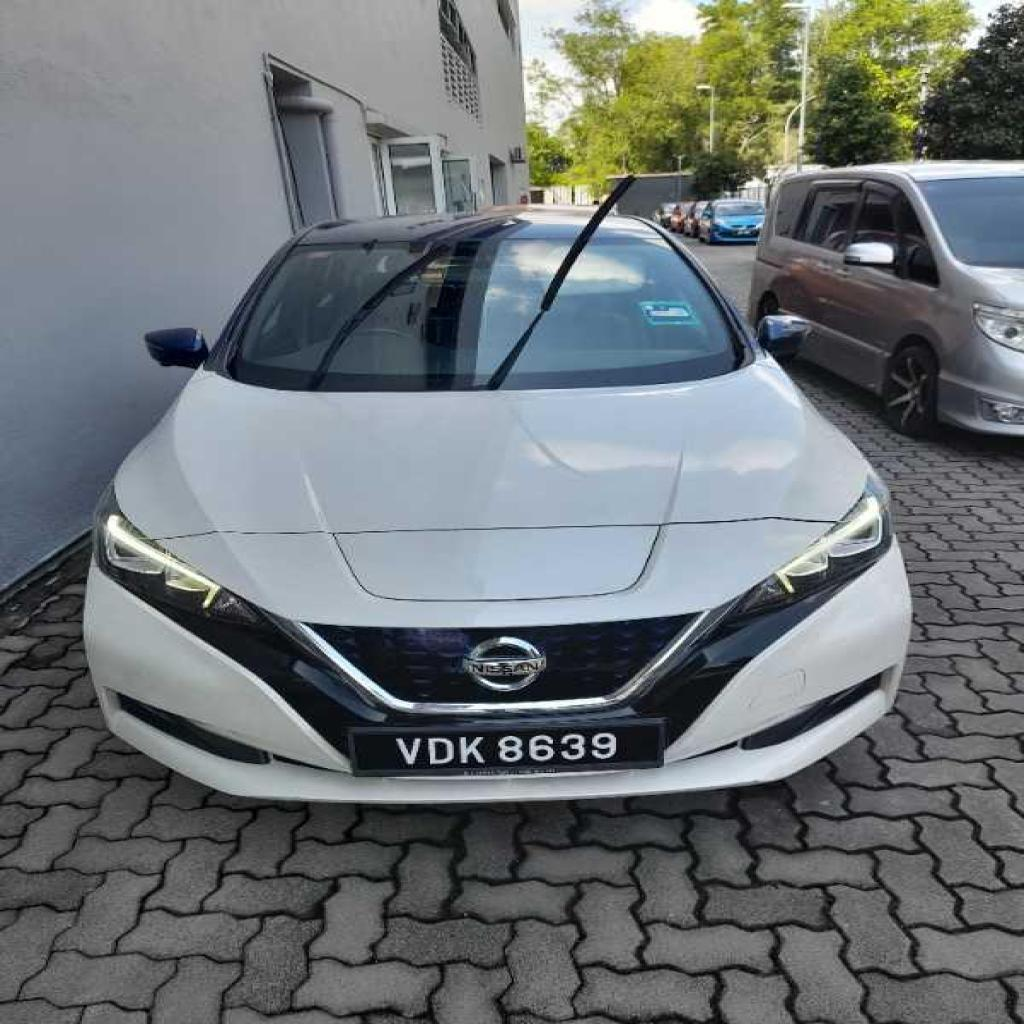car: (84, 207, 908, 801)
car plate: (350, 718, 662, 774)
